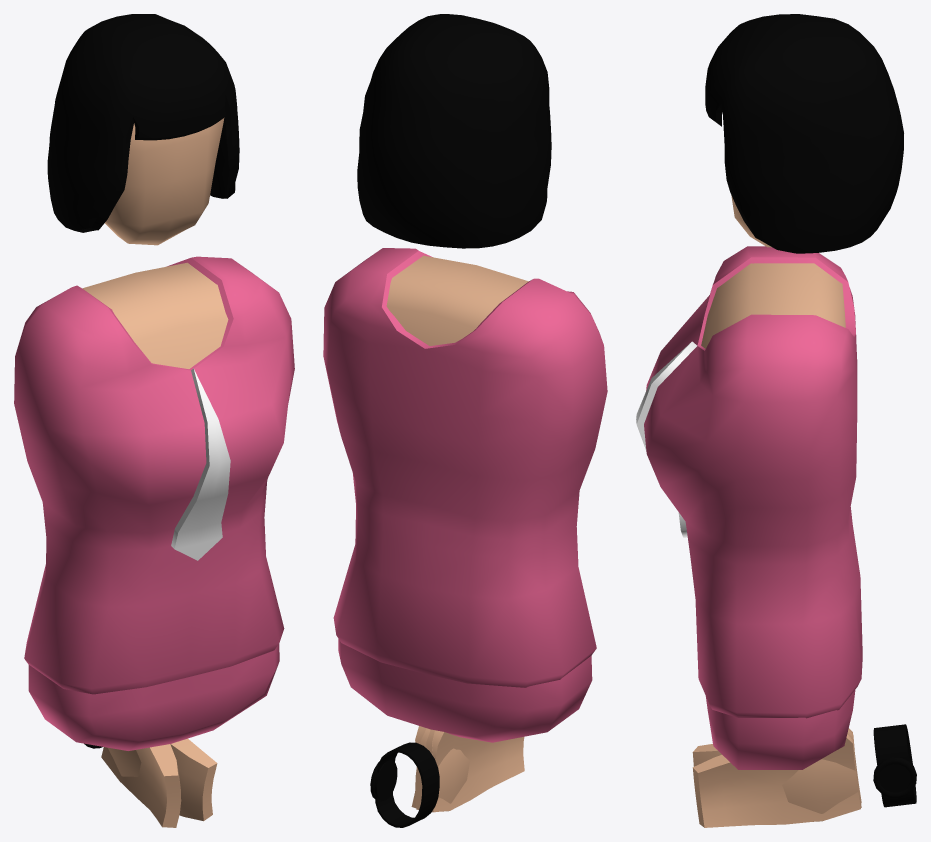
File: StudentFemaleAvatar.fbx
3 views of the same model, side by side, from view 1: azimuth 30°, elevation 25°; view 2: azimuth 150°, elevation 25°; view 3: azimuth 270°, elevation 25° (orthographic). The views are drawn at different scales.
Parts seen in each view (by area): view 1: Body4, Hair4, Head4, HandL, HandR; view 2: Body4, Hair4, HandL, Watch, HandR; view 3: Body4, Hair4, HandR, HandL, Watch.
Boxes of the visible parts, box(x1,y1,x2,y2) form: Body4: box(14, 256, 294, 750); Hair4: box(47, 14, 239, 232); Head4: box(105, 117, 224, 245); HandL: box(101, 744, 181, 827); HandR: box(108, 738, 217, 821); Body4: box(323, 248, 607, 742); Hair4: box(357, 14, 551, 248); HandL: box(415, 728, 524, 812); Watch: box(370, 742, 439, 827); HandR: box(411, 726, 469, 811); Body4: box(636, 246, 862, 769); Hair4: box(705, 14, 903, 253); HandR: box(692, 730, 861, 827); HandL: box(692, 728, 861, 821); Watch: box(873, 724, 916, 807).
Size of the model in its own units: 38.76 by 115 by 36.9.
